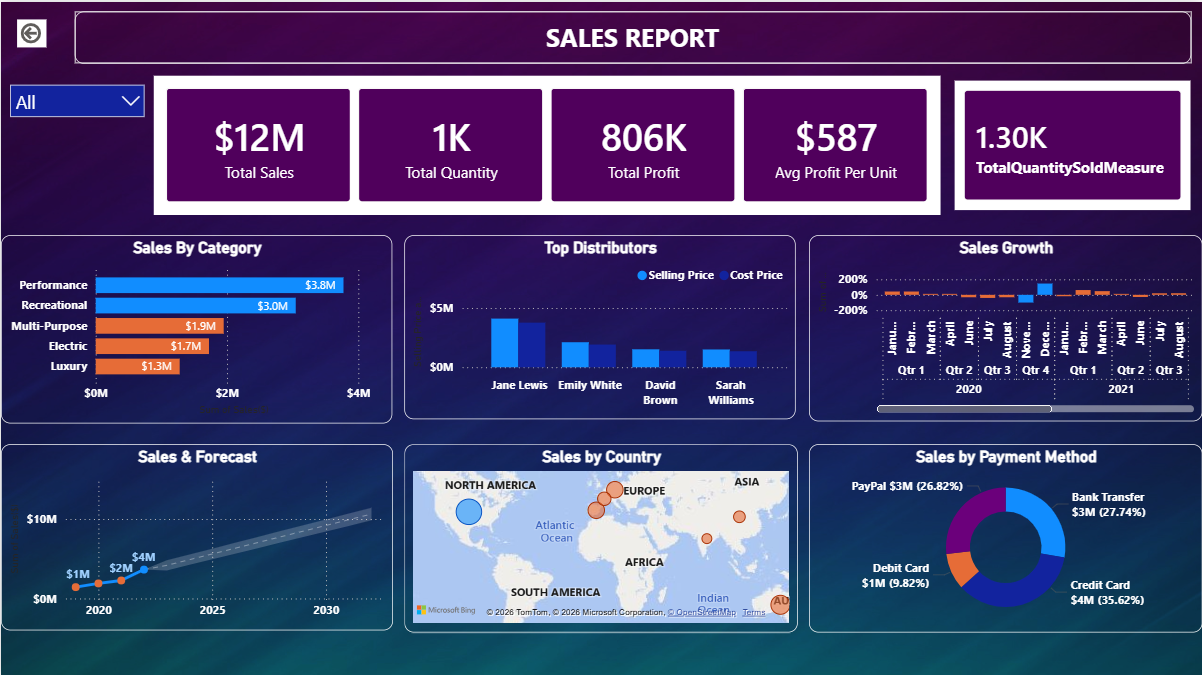

What the dashboard file says about the page in this screenshot:
{"tool":"powerbi","page":{"name":"Sales","canvas":[1280,720],"ordinal":0},"visuals":[{"type":"textbox","box":[82.6,10.3,1190.1,55.8],"z":0},{"type":"cardVisual","fields":{"Data":["Sum(Sales.Sales($))","Sum(Sales.QuantitySold )","Sum(Sales.Profit)","Avg(Sales.ProfitPerUnit)"]},"box":[163.2,78.5,838.8,148.8],"z":1000},{"type":"cardVisual","fields":{"Data":["Sales.TotalQuantitySoldMeasure"]},"box":[1011.1,78.4,262.5,148.9],"z":2000},{"type":"barChart","title":"Sales By Category","fields":{"Y":["Sum(Sales.Sales($))"],"Category":["Category.Category Type"]},"box":[0,247.9,417.3,200.4],"z":3000},{"type":"clusteredColumnChart","title":"Top Distributors","fields":{"Y":["Sum(Sales.Sales($))","Sum(Sales.TotalProductionCost)"],"Category":["Distributor.FullName"]},"box":[429.8,247.9,417.4,196.3],"z":4000},{"type":"clusteredColumnChart","title":"Sales Growth","fields":{"Y":["Sales.Sum of Sales($) YoY% 2"],"Category":["Sales.Date       .Variation.Date Hierarchy.Year","Sales.Date       .Variation.Date Hierarchy.Quarter","Sales.Date       .Variation.Date Hierarchy.Month","Sales.Date       .Variation.Date Hierarchy.Day"]},"box":[861.6,247.9,419.4,198.3],"z":5000},{"type":"lineChart","title":"Sales & Forecast","fields":{"Category":["Sales.Date       .Variation.Date Hierarchy.Year","Sales.Date       .Variation.Date Hierarchy.Quarter","Sales.Date       .Variation.Date Hierarchy.Month","Sales.Date       .Variation.Date Hierarchy.Day"],"Y":["Sum(Sales.Sales($))"]},"box":[0,471.6,418,198.6],"z":6000},{"type":"map","title":"Sales by Country","fields":{"Category":["Distributor.Country"],"Size":["Sum(Sales.Sales($))"]},"box":[429.8,471.1,419.4,200.4],"z":7000},{"type":"donutChart","title":"Sales by Payment Method","fields":{"Y":["Sum(Sales.Sales($))"],"Series":["Sales.Payment_Methods. PaymentMethod "]},"box":[861.6,471.1,419.4,200.4],"z":8000},{"type":"slicer","fields":{"Values":["Sales.Date       .Variation.Date Hierarchy.Year"]},"box":[0,78.5,163.2,119.8],"z":9000},{"type":"actionButton","box":[14.5,16.5,41.3,39.2],"z":10000}]}

Visuals, with their boxes in screenshot pixels (x1, y1, x2, y2), scaled from the page's 1280x720 canvas onto the 1202x675 screenshot:
textbox: <box>78,10,1195,62</box>
cardVisual - Sum(Sales.Sales($)) x Sum(Sales.QuantitySold ): <box>153,74,941,213</box>
cardVisual - Sales.TotalQuantitySoldMeasure: <box>949,74,1196,213</box>
"Sales By Category" barChart: <box>0,232,392,420</box>
"Top Distributors" clusteredColumnChart: <box>404,232,796,416</box>
"Sales Growth" clusteredColumnChart: <box>809,232,1201,418</box>
"Sales & Forecast" lineChart: <box>0,442,393,628</box>
"Sales by Country" map: <box>404,442,797,630</box>
"Sales by Payment Method" donutChart: <box>809,442,1201,630</box>
slicer - Sales.Date       .Variation.Date Hierarchy.Year: <box>0,74,153,186</box>
actionButton: <box>14,15,52,52</box>
